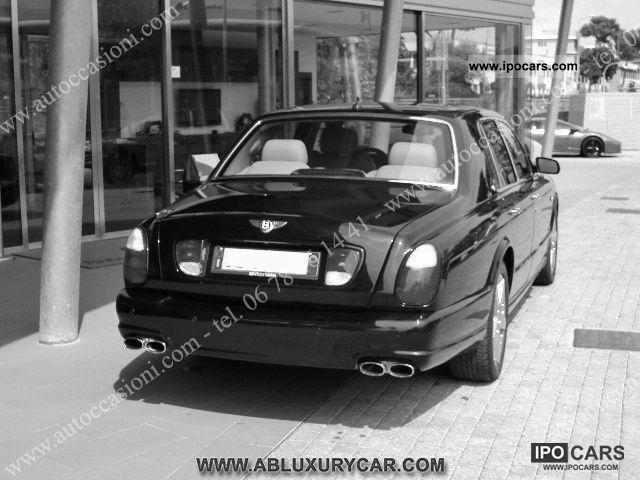car: (110, 96, 565, 389)
